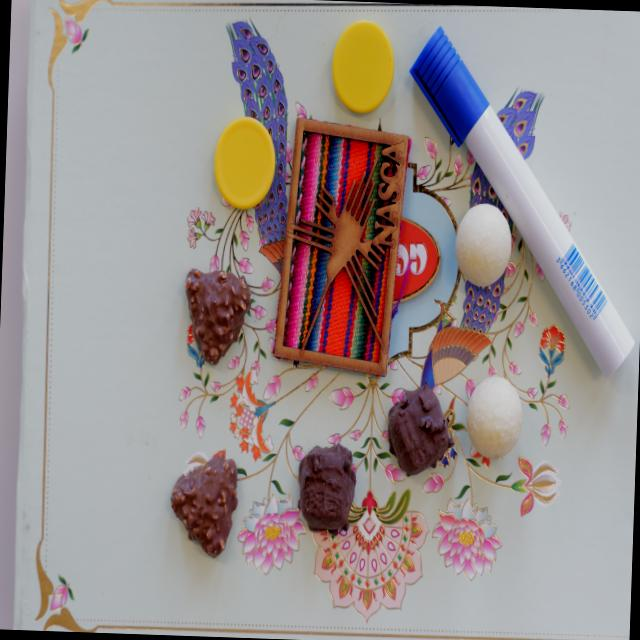Comtesse: (453, 203, 512, 287), (464, 376, 523, 459)
Tentation_noir: (386, 380, 454, 477), (296, 445, 354, 534)
Triangolo: (170, 454, 240, 557), (184, 266, 252, 366)
